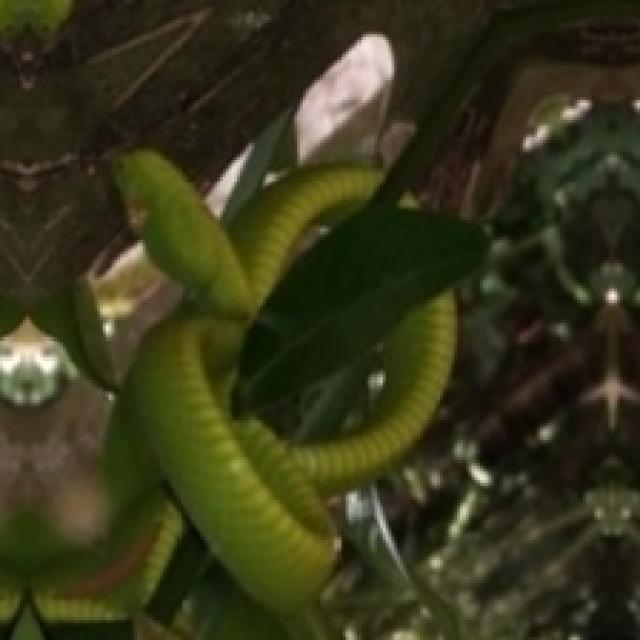north ph temple pitviper: (117, 151, 451, 611)
